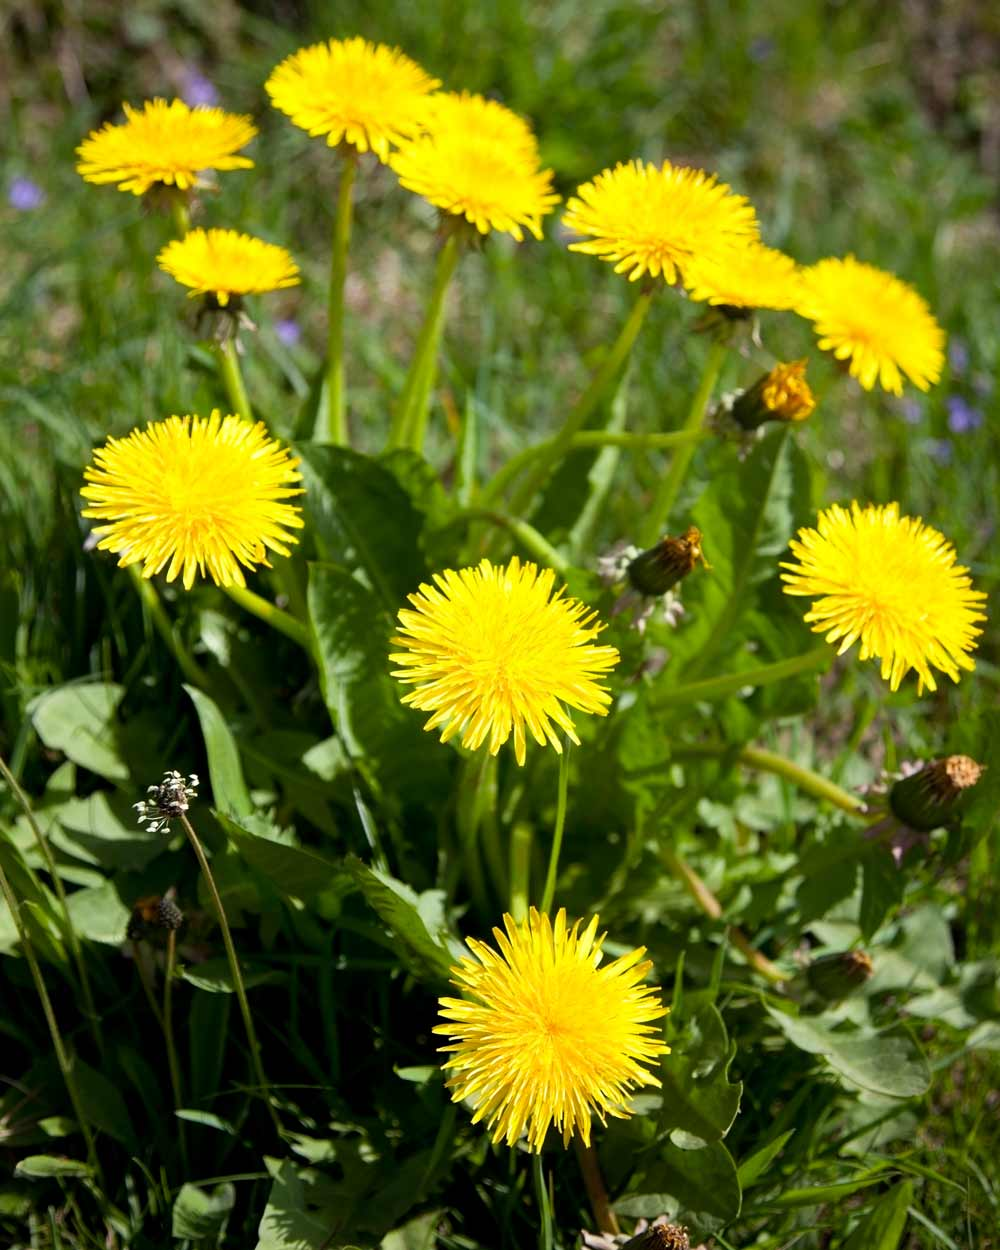dandelion: (264, 30, 553, 250), (461, 918, 670, 1154), (783, 494, 993, 707), (78, 428, 327, 595), (392, 558, 616, 739), (787, 220, 970, 435), (70, 54, 267, 219), (578, 130, 724, 303), (158, 230, 314, 314)
